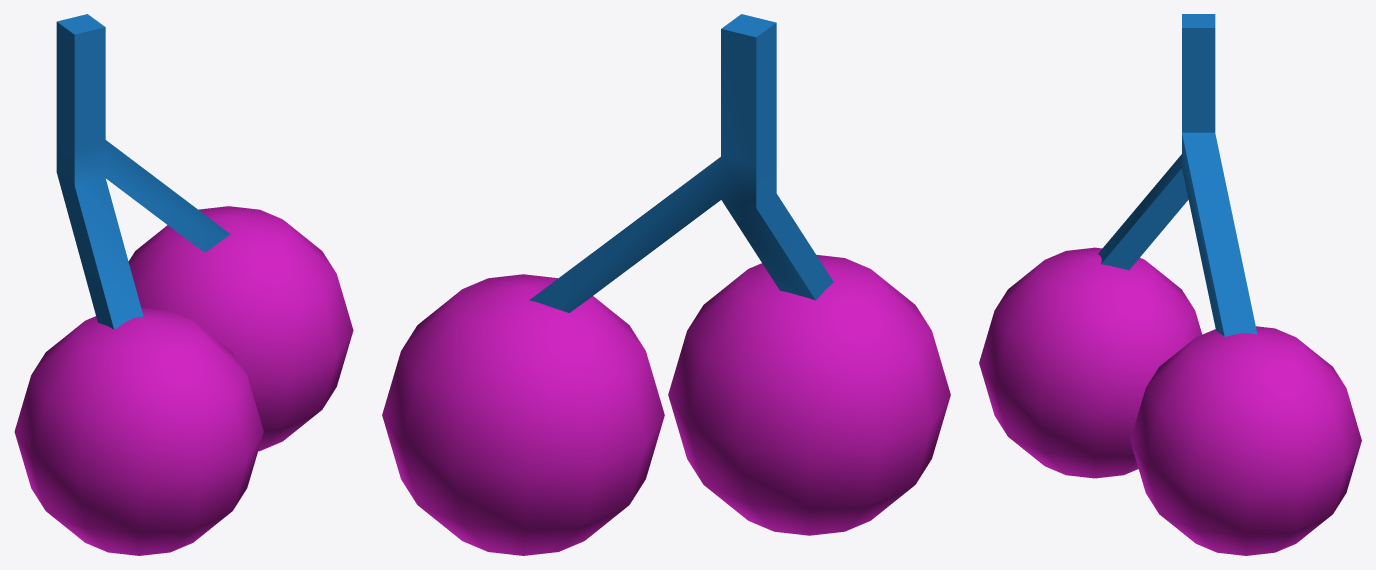
Rendered from winogrona.fbx.
The picture shows the model from 3 angles, left to right: view 1: azimuth 30°, elevation 25°; view 2: azimuth 150°, elevation 25°; view 3: azimuth 270°, elevation 25°; orthographic projection. The views are drawn at different scales.
Visible parts, largest first — view 1: winogrona; view 2: winogrona; view 3: winogrona.
Boxes of the visible parts, x1,y1,x2,y2 form: winogrona: (14,14,353,555); winogrona: (382,14,950,555); winogrona: (979,14,1361,555).
Bounding box in the file's own units: 147 × 174 × 136.
